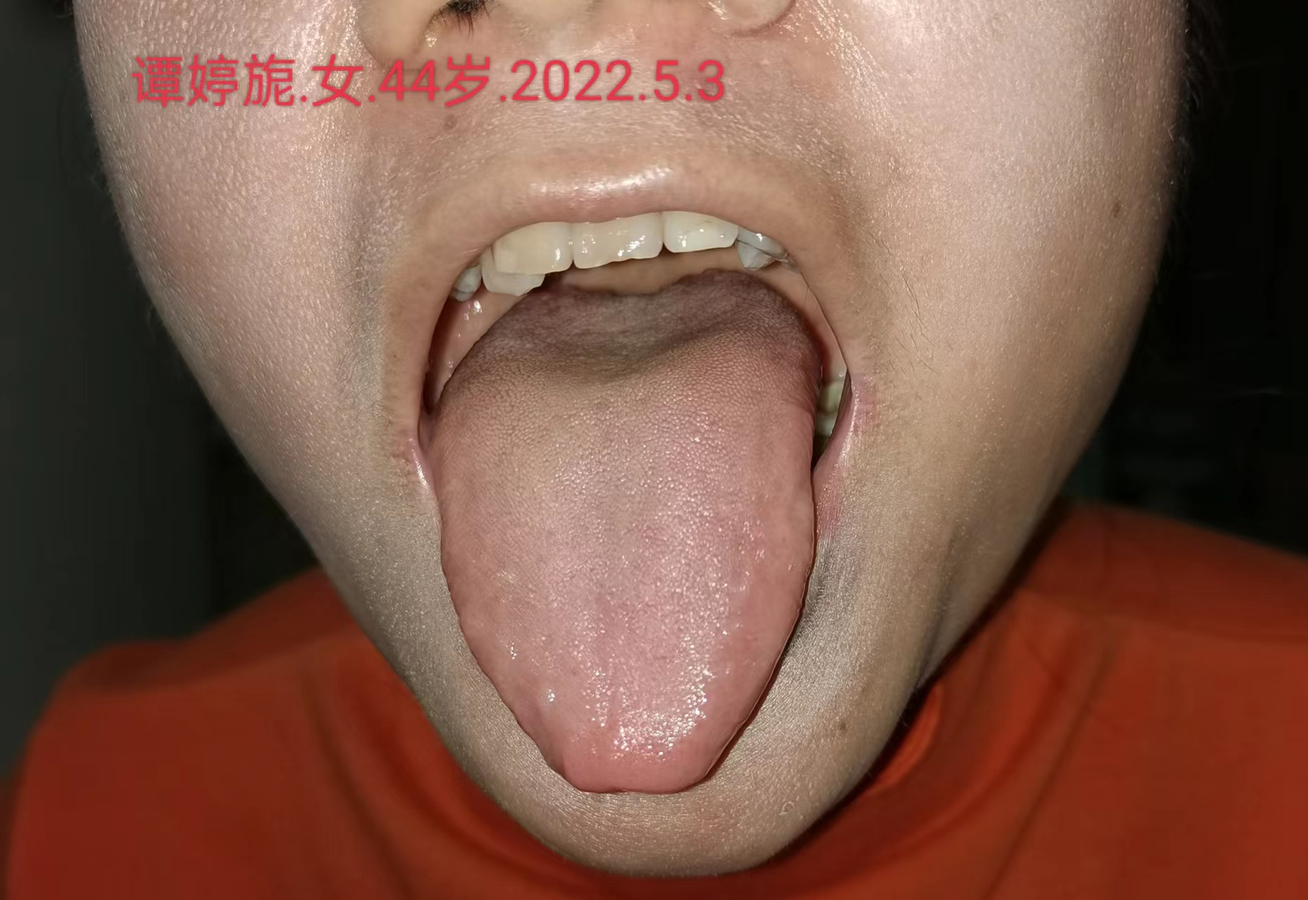baitaishe: (432, 270, 825, 793)
chihenshe: (440, 501, 545, 756)
